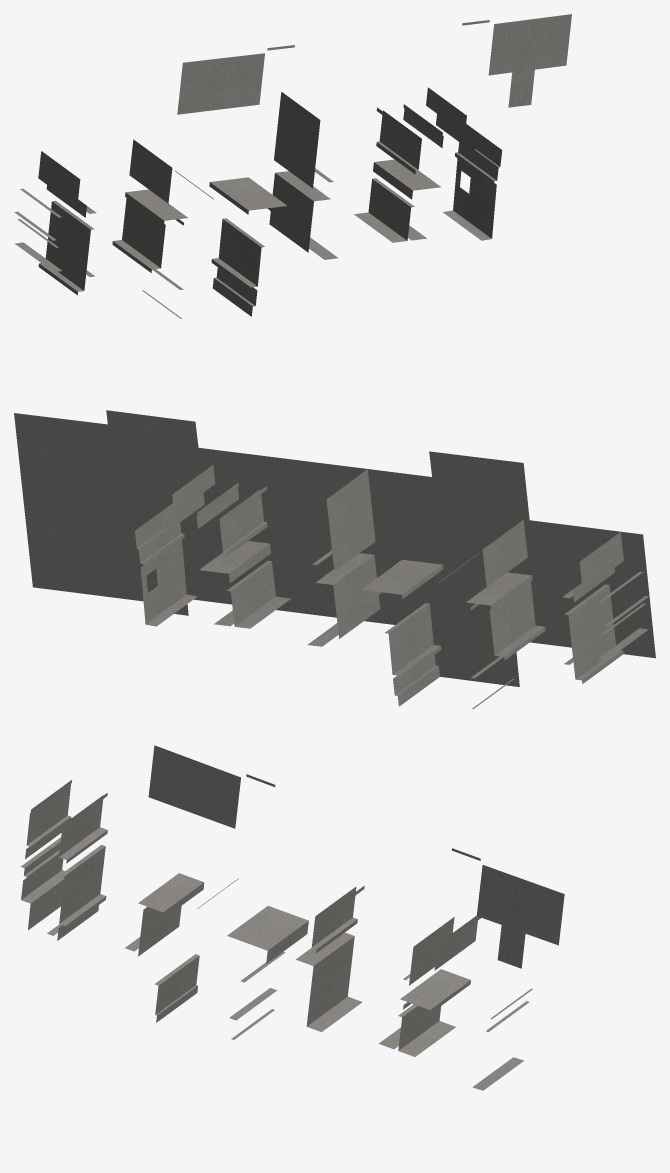
Rendered from data27.glb.
3 renders of one model, top to bottom at view 1: azimuth 30°, elevation 25°; view 2: azimuth 150°, elevation 25°; view 3: azimuth 330°, elevation 25°, orthographic. The views are drawn at different scales.
Parts seen in each view (by area): view 1: data27; view 2: data27; view 3: data27.
Boxes of the visible parts, <box> form: data27: <box>14,14,571,318</box>; data27: <box>14,410,655,708</box>; data27: <box>20,745,564,1090</box>.
Size of the model in its own units: 53.06 by 23.47 by 6.1.
Materials: 1 (1 with a texture image).
